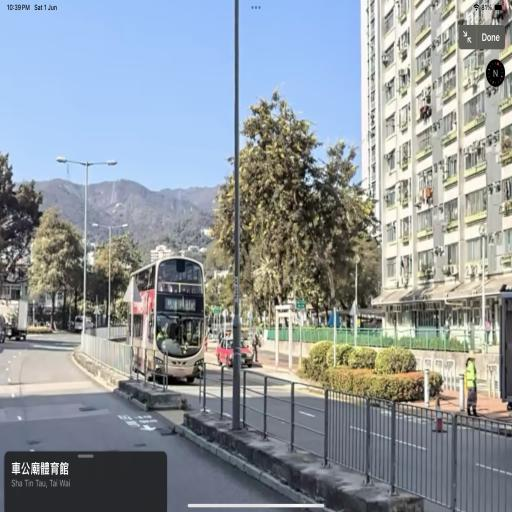Roads: (17, 287, 500, 500)
Trees: (209, 64, 394, 374), (16, 187, 86, 335)
